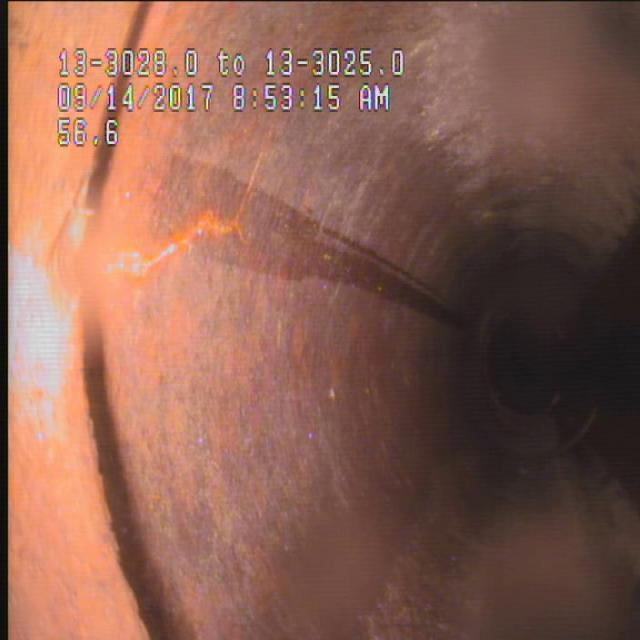Crack: (110, 200, 244, 282)
